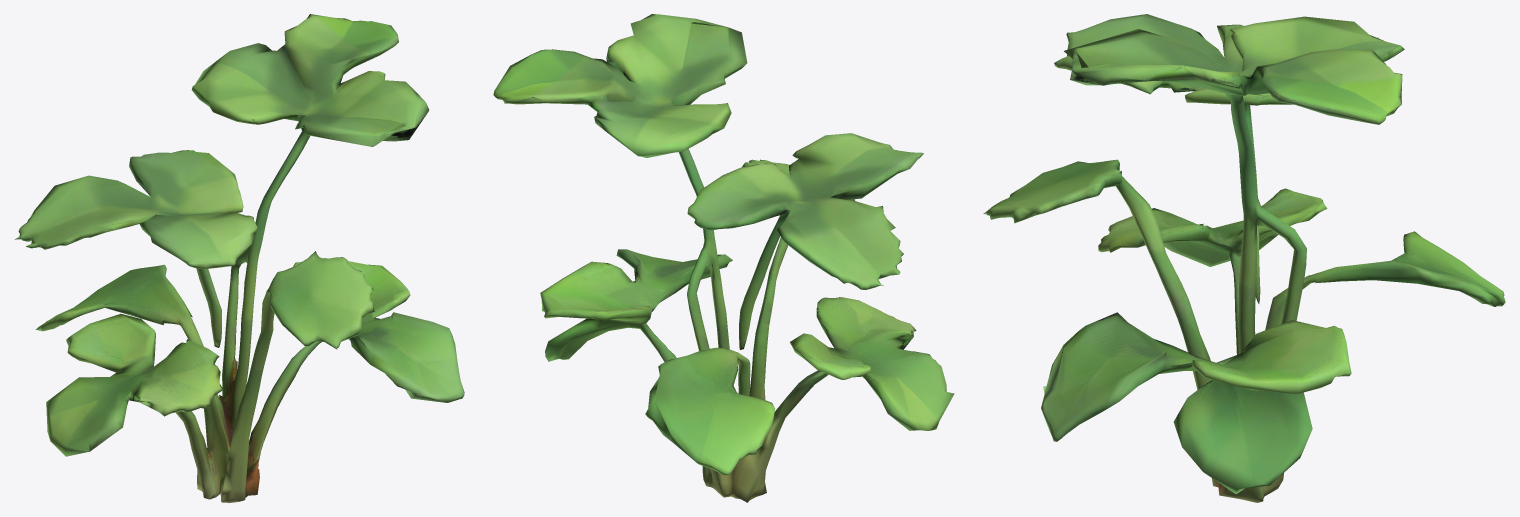
The model's file is strawberry_m.glb.
The picture shows the model from 3 angles, left to right: view 1: azimuth 30°, elevation 25°; view 2: azimuth 150°, elevation 25°; view 3: azimuth 270°, elevation 25°; orthographic projection. The views are drawn at different scales.
Size of the model in its own units: 1.96 by 2 by 1.87.
Materials: 1 (1 with a texture image).
